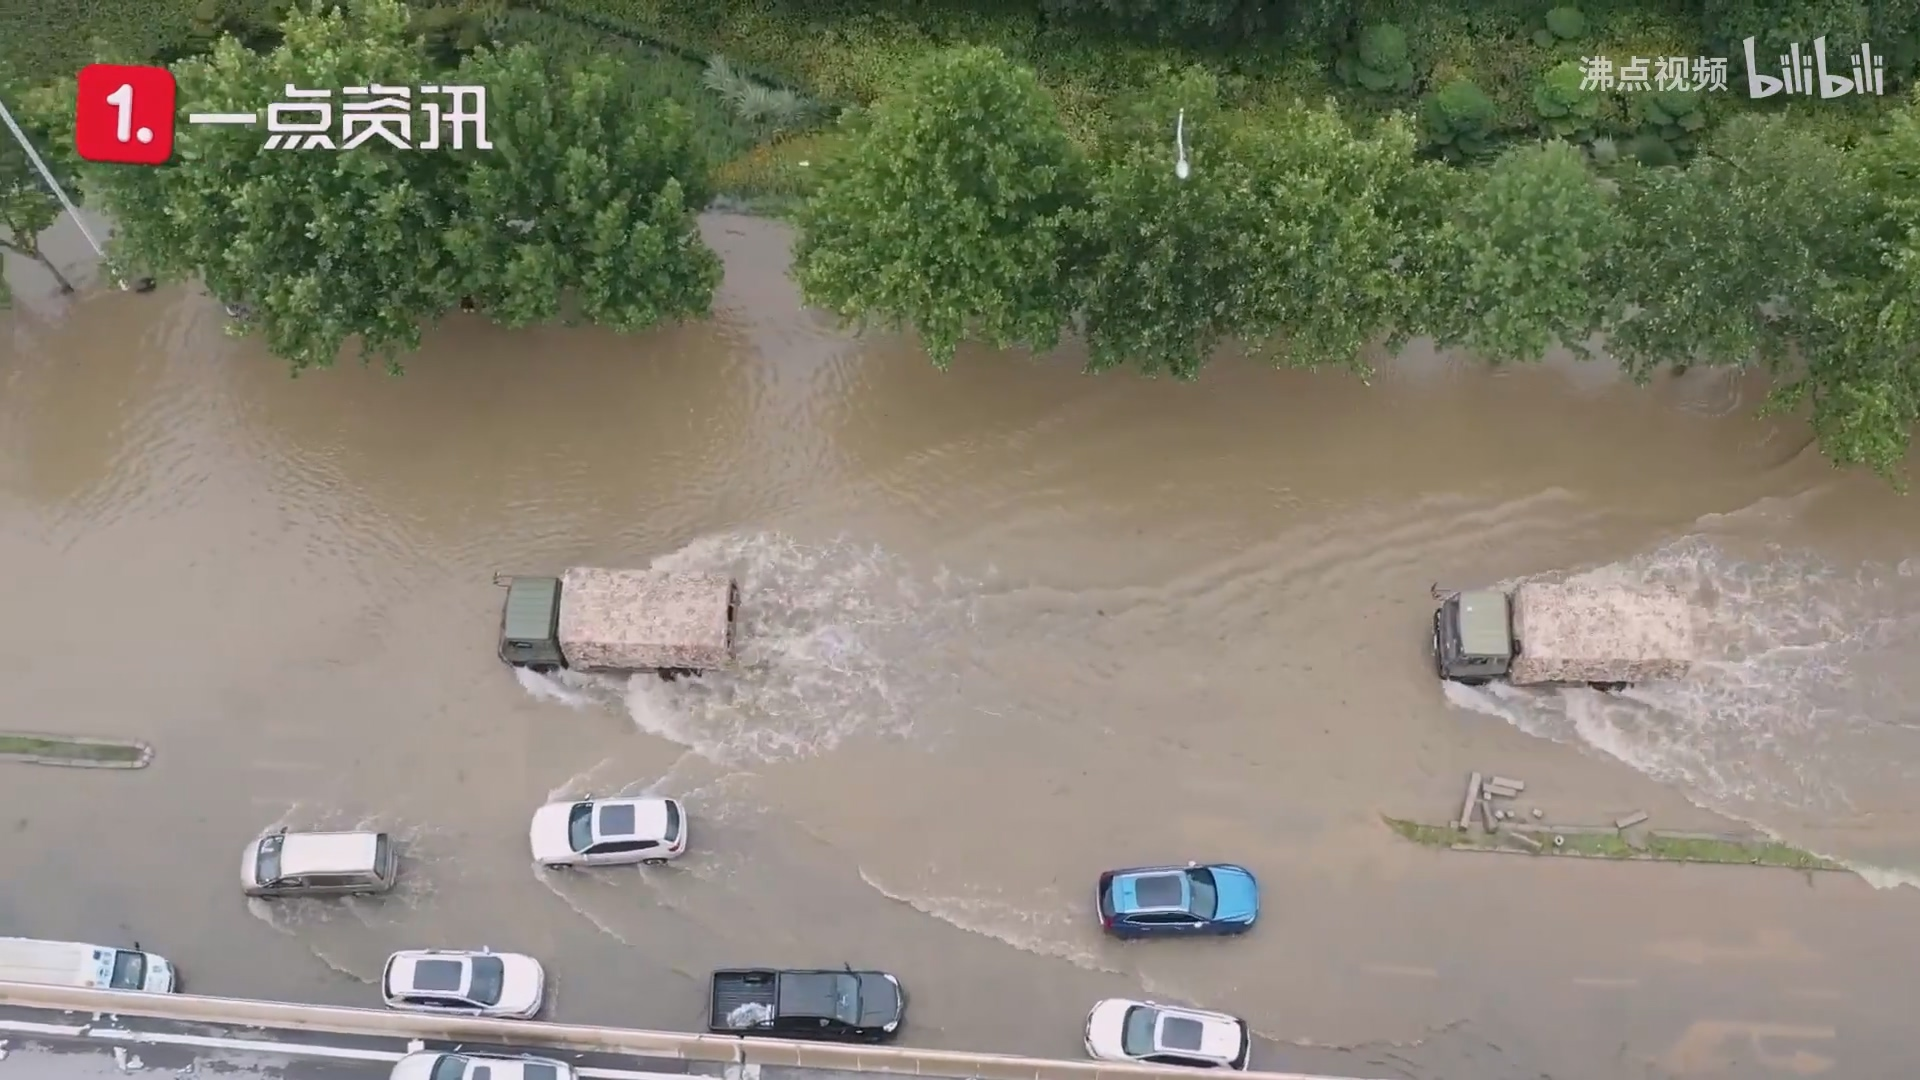puddle: (32, 295, 1899, 1080)
